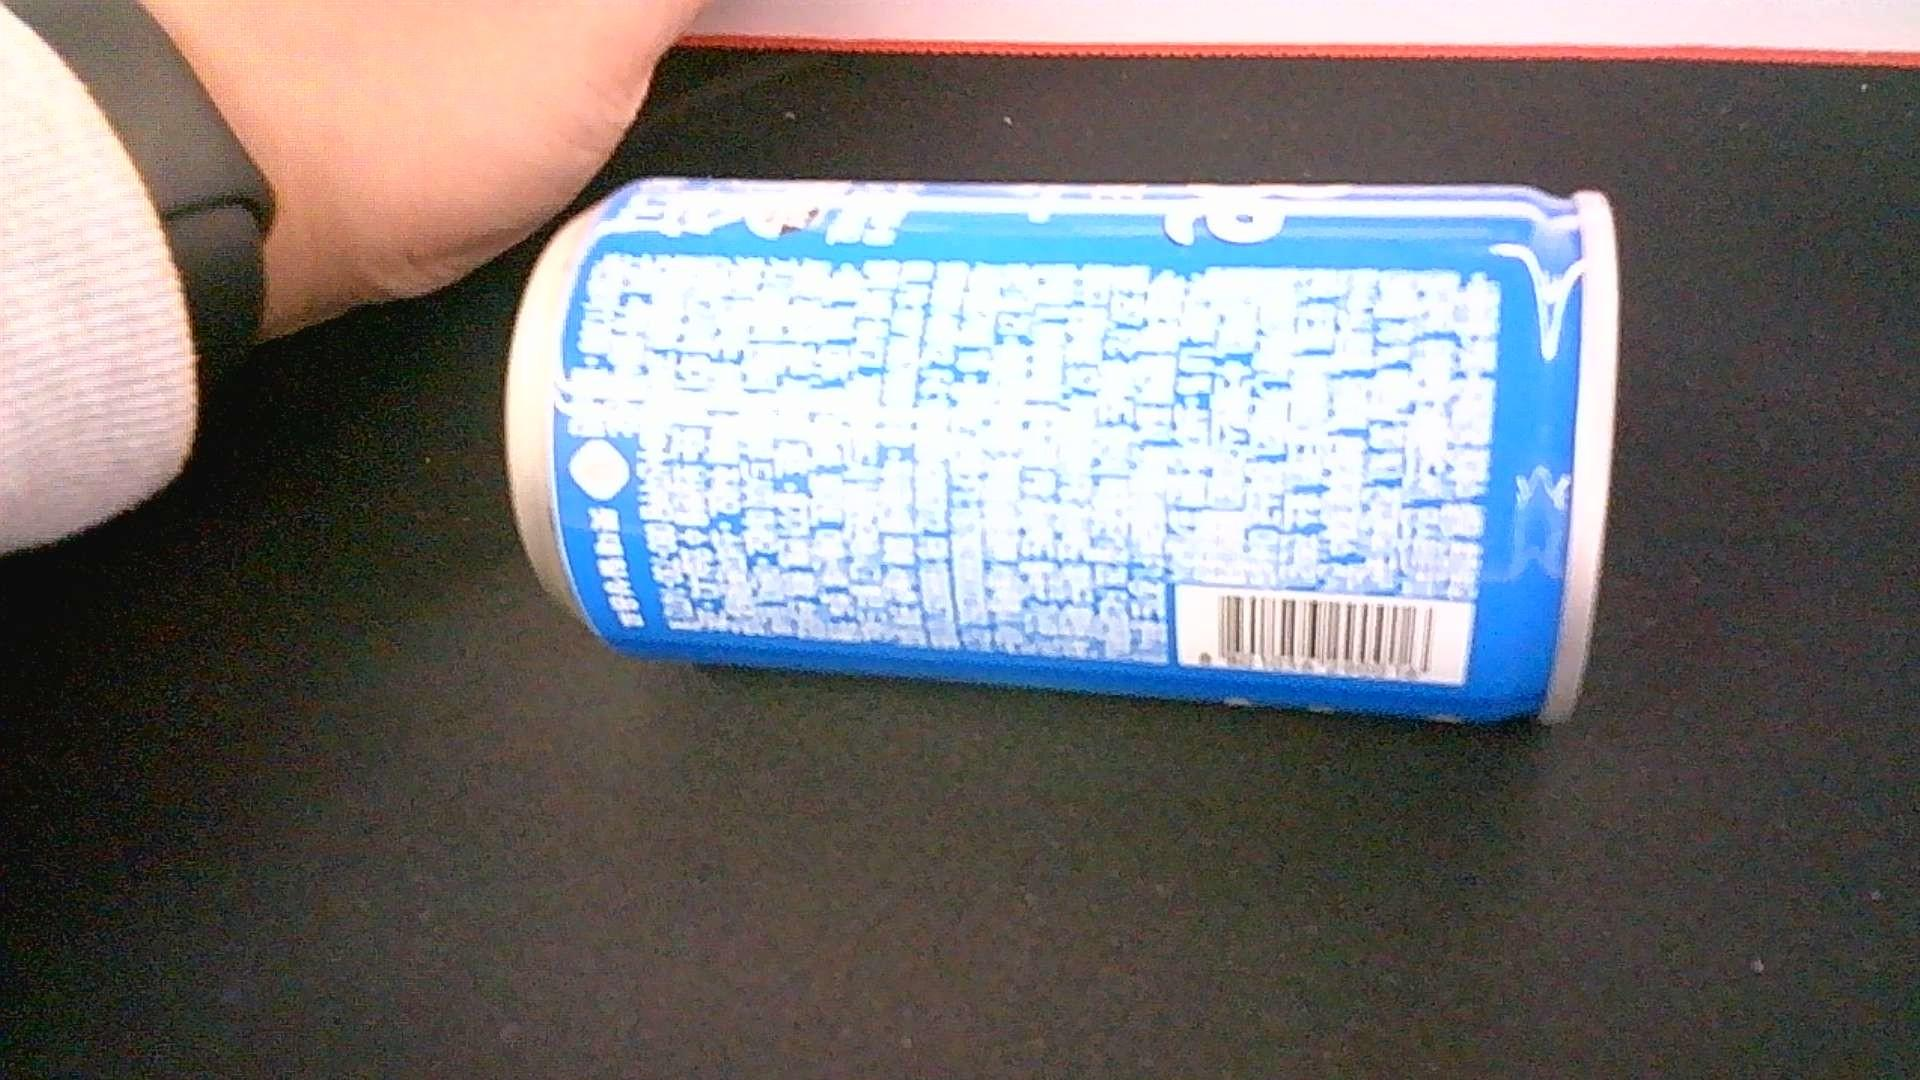letsbe: (501, 175, 1619, 729)
